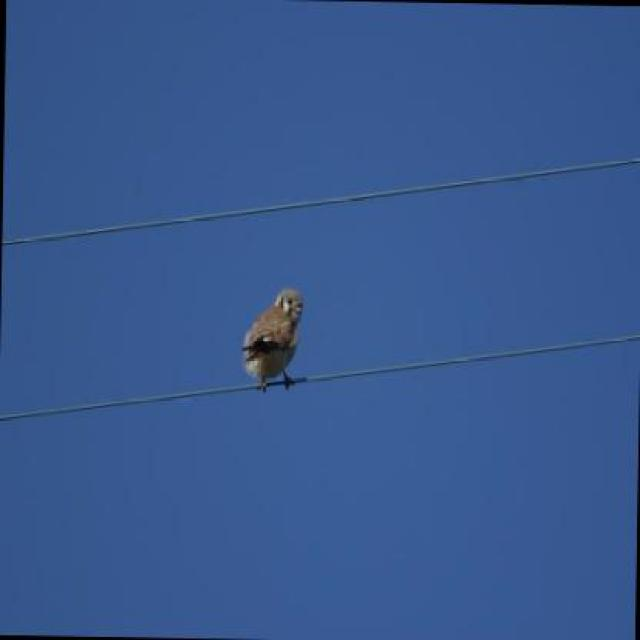sparrow: (238, 290, 305, 387)
